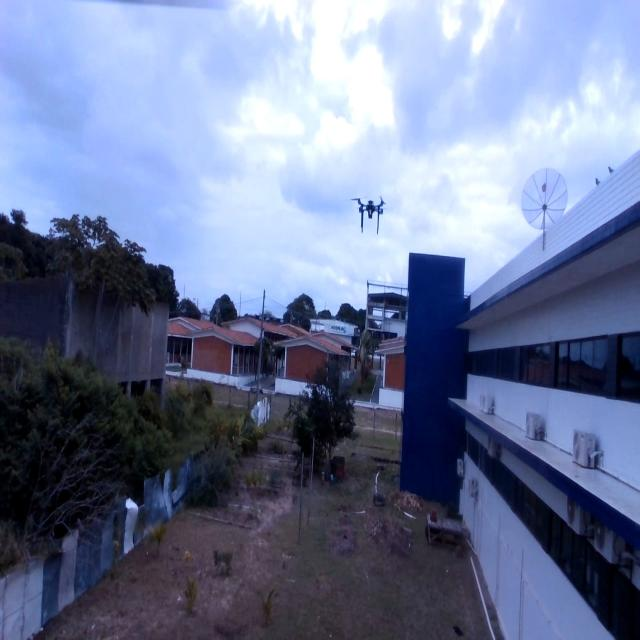-uav-: (348, 184, 392, 243)
